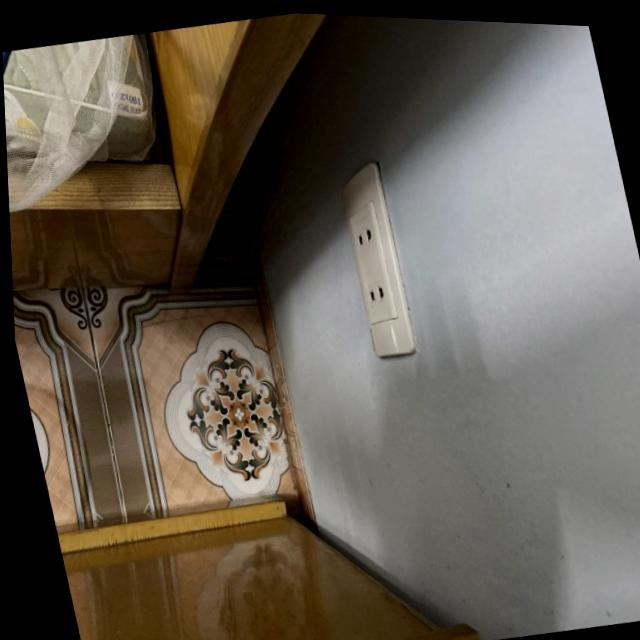outlet: (331, 158, 419, 361)
